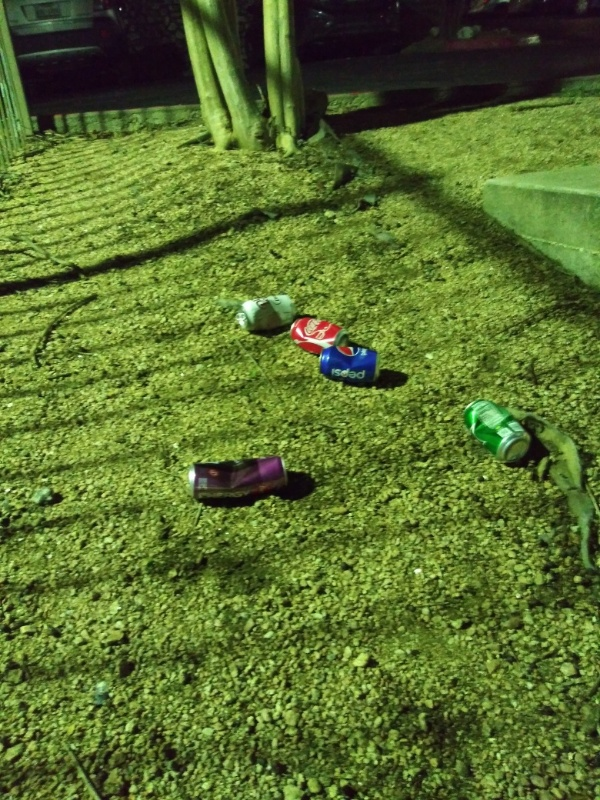can: (186, 454, 295, 505), (459, 396, 534, 468), (314, 341, 386, 390), (231, 291, 300, 332), (286, 311, 348, 356)
